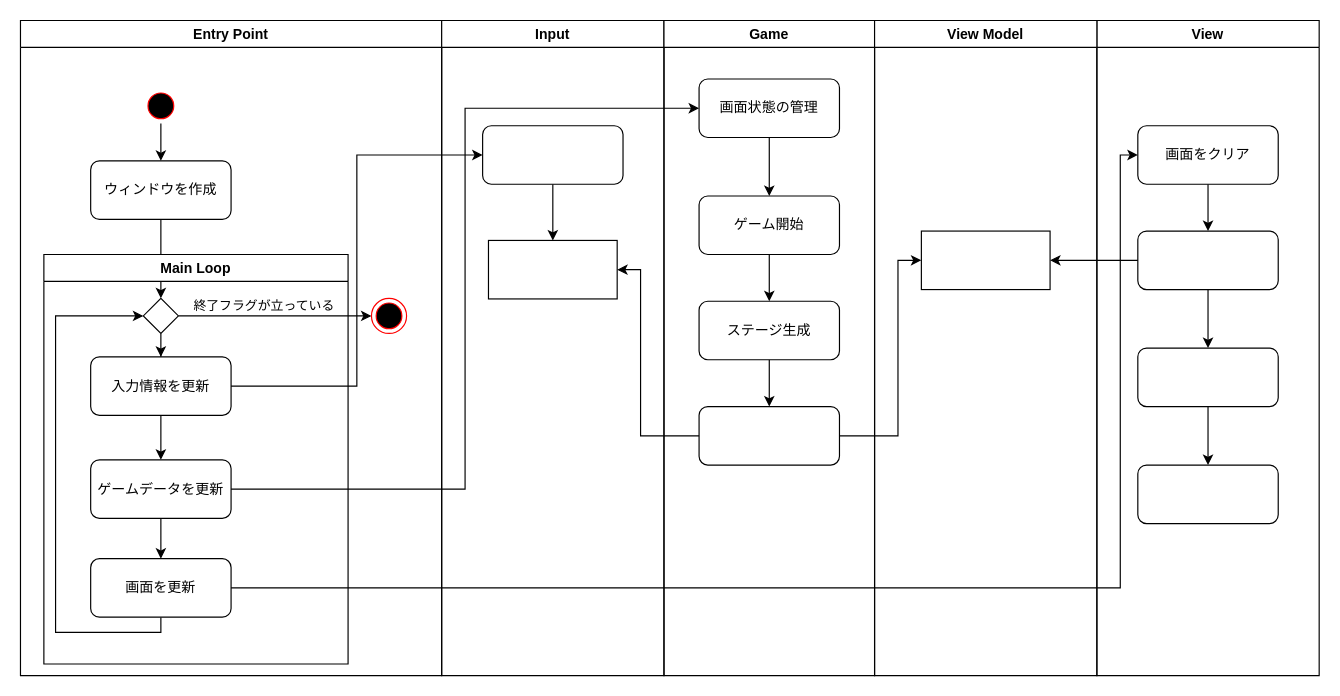
Some shapes in this 1340 by 696 pixel diagram are drawn without their labels. Here are the shapes that lost their labels. From the top down, the box of each, then its label:
(481, 125, 623, 184): 入力情報を格納
(487, 239, 617, 299): Input Value
(920, 230, 1050, 290): View Model List
(1137, 230, 1278, 290): ビットマップを生成
(1137, 347, 1278, 407): 裏画面に反映
(698, 405, 839, 465): オブジェクトの更新
(1137, 464, 1278, 524): 画面をフリップ
